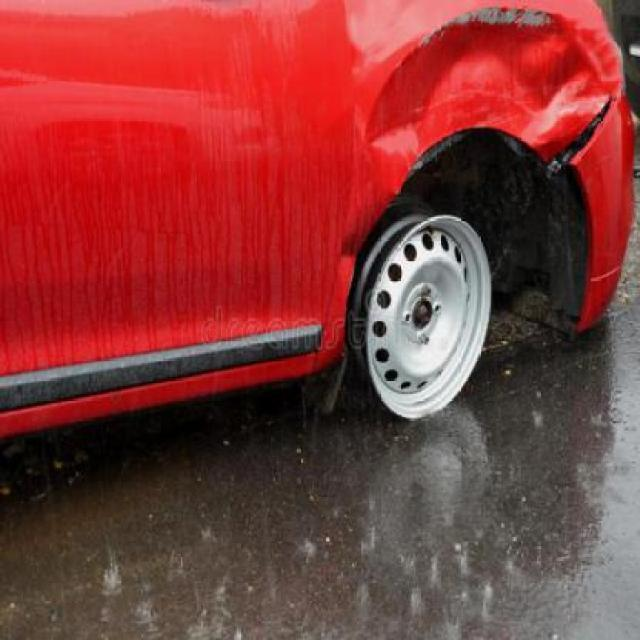fender-dent: (340, 2, 623, 162)
